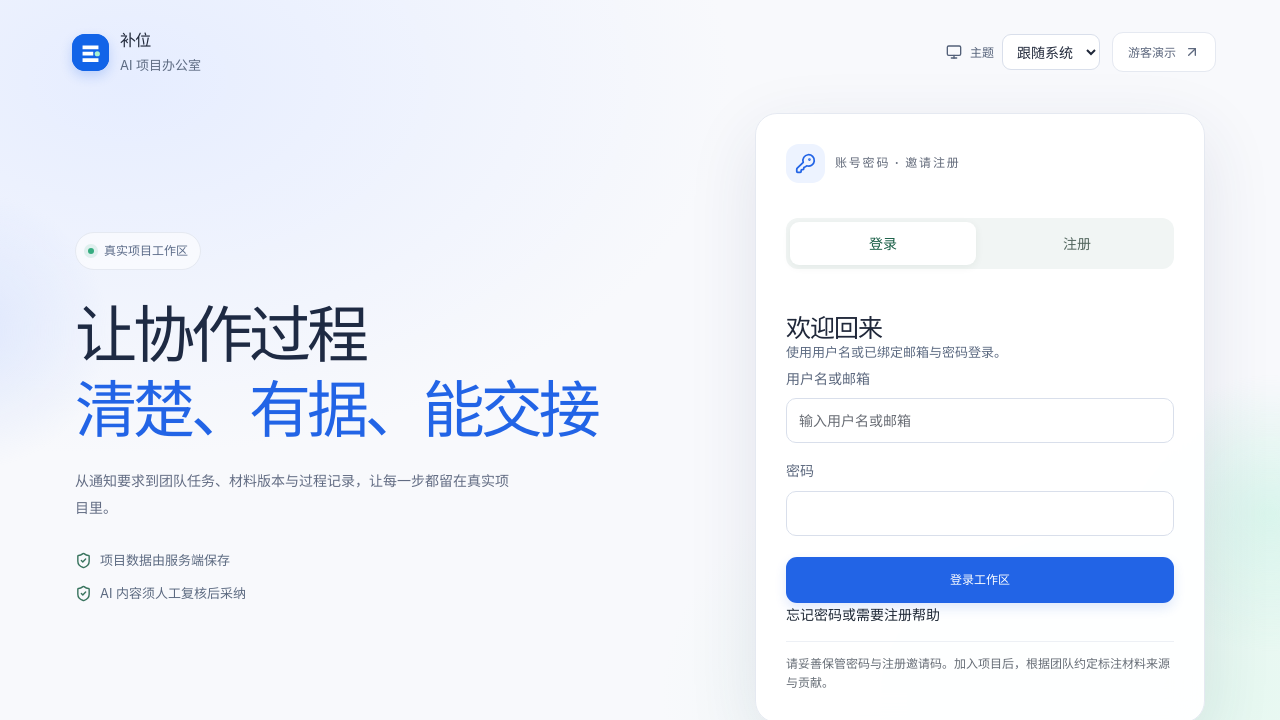
Scenario: password login and invitation registration › shows real credential failure and keeps the guest demo behind an explicit link
Type "team_member" into the field labelled "用户名或邮箱". click: (980, 421)
box: [786,398,1174,444]
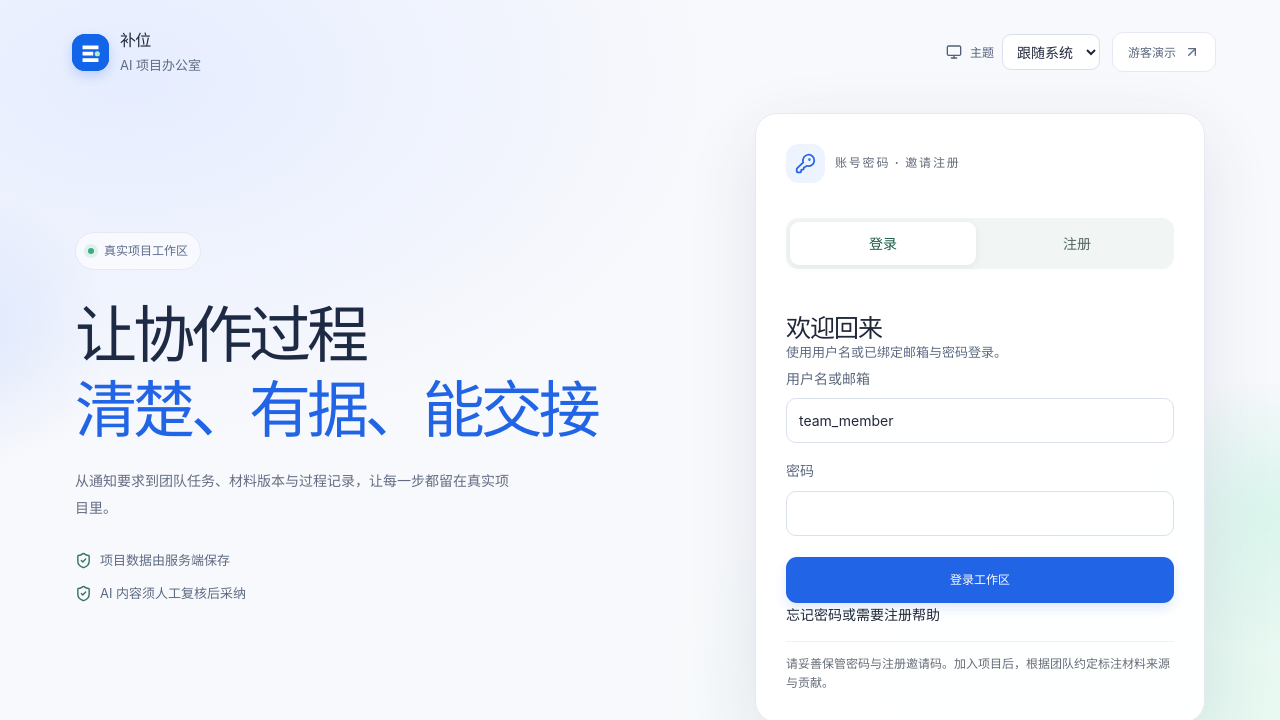
Type "wrong-password" into the password field labelled "密码". click: (980, 513)
box: [786,490,1174,536]
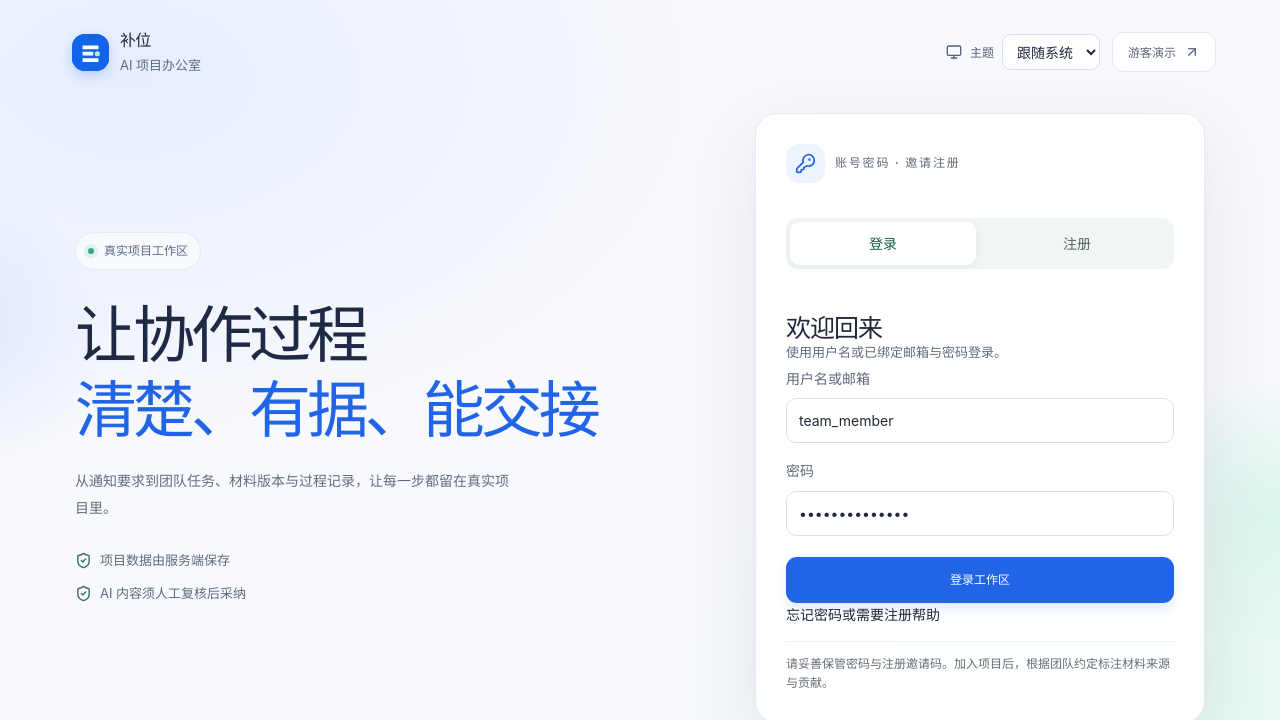
Click the button "登录工作区". click: (980, 580)
box: [786,557,1174,603]
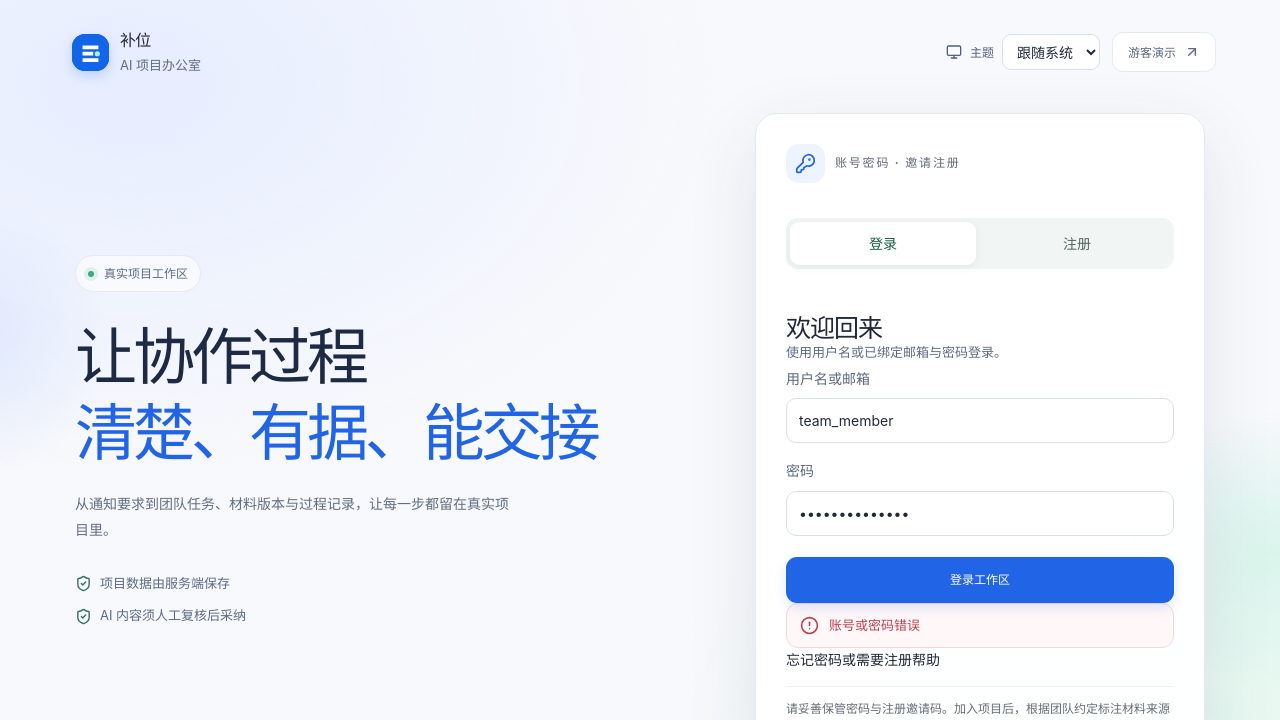
Now the message reads "账号或密码错误", box [829,617,920,633]
